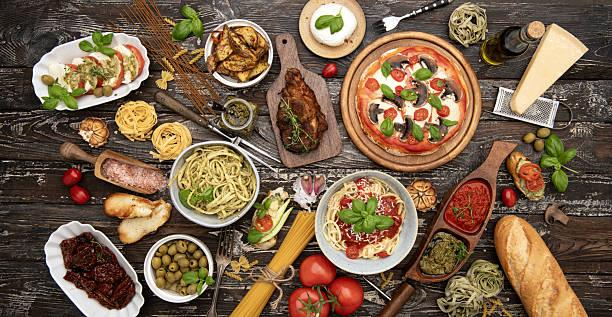Braised Crucian Carp: (339, 30, 479, 173), (313, 170, 414, 274), (263, 31, 338, 170), (43, 221, 144, 316), (31, 31, 150, 111), (168, 141, 259, 227), (203, 18, 273, 89), (143, 233, 213, 303)
